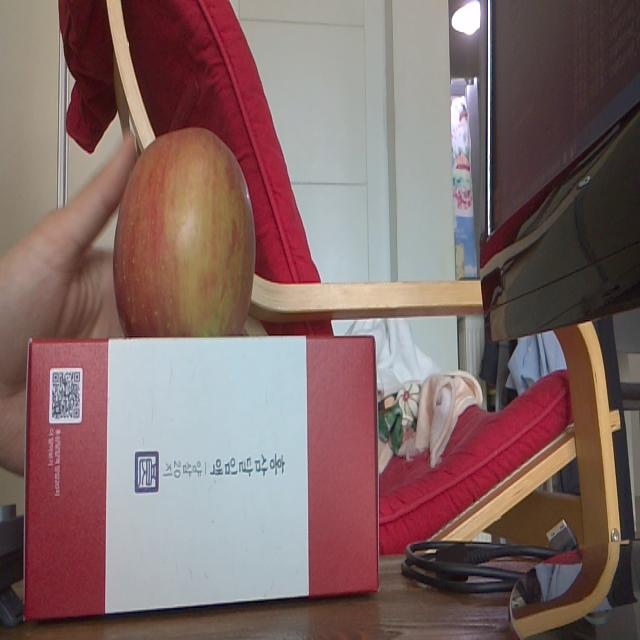apple: (112, 126, 255, 337)
